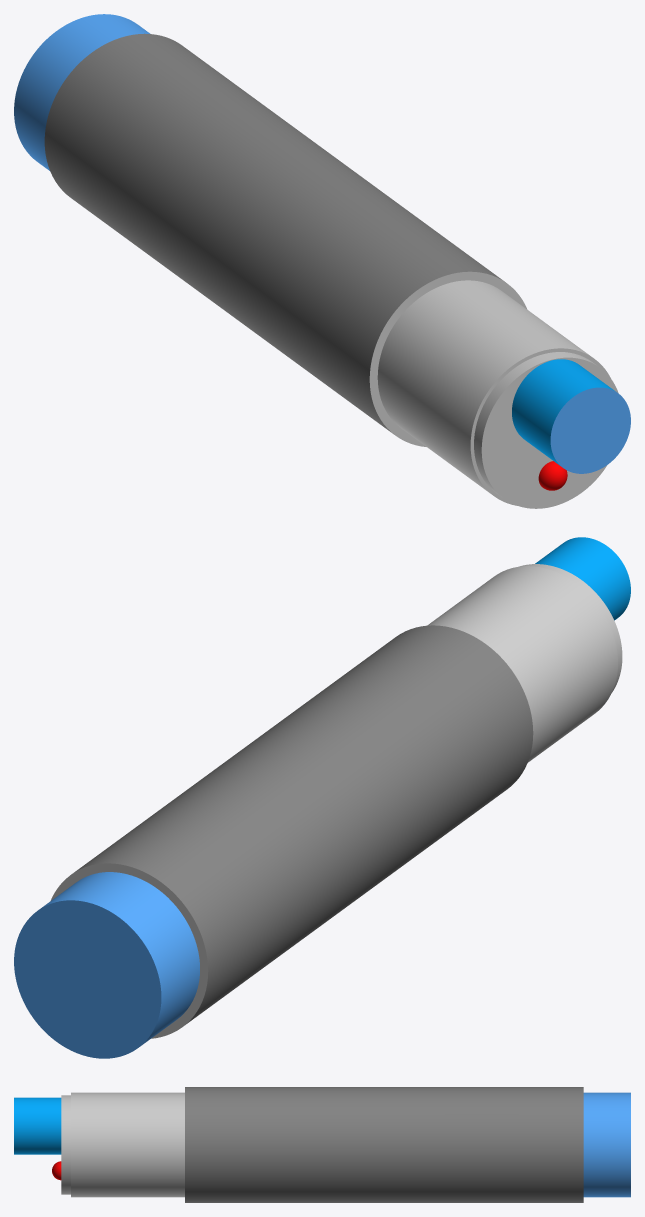
File: fc_ind.glb
3 views of the same model, one above another, from view 1: azimuth 30°, elevation 25°; view 2: azimuth 150°, elevation 25°; view 3: azimuth 270°, elevation 25° (orthographic). The views are drawn at different scales.
Parts seen in each view (by area): view 1: Fusion; view 2: Fusion; view 3: Fusion.
Boxes of the visible parts, x1,y1,x2,y2 form: Fusion: (14, 14, 630, 508); Fusion: (14, 537, 630, 1058); Fusion: (14, 1087, 630, 1202).
Size of the model in its own units: 0.0122 by 0.0122 by 0.065.
